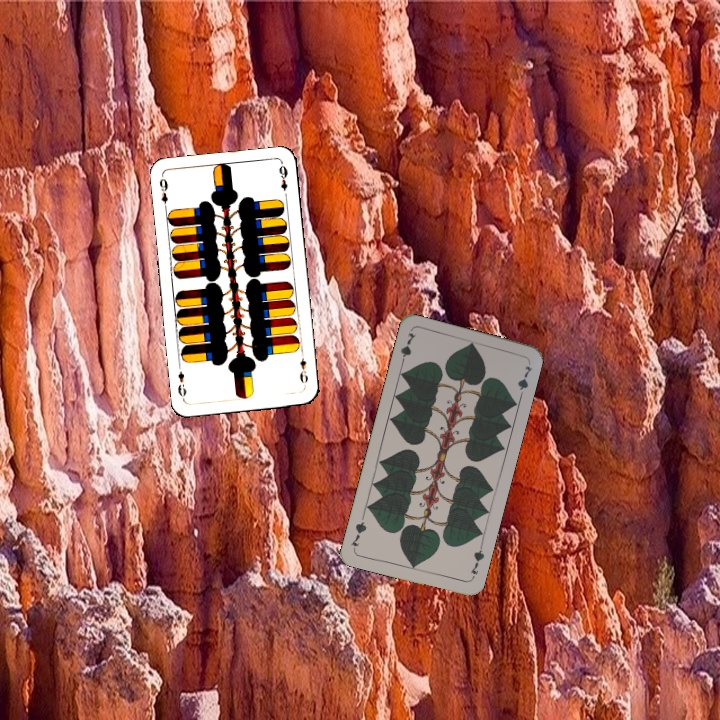E9: (155, 173, 170, 213), (296, 354, 310, 389)
G7: (396, 329, 418, 368), (466, 542, 487, 582)
